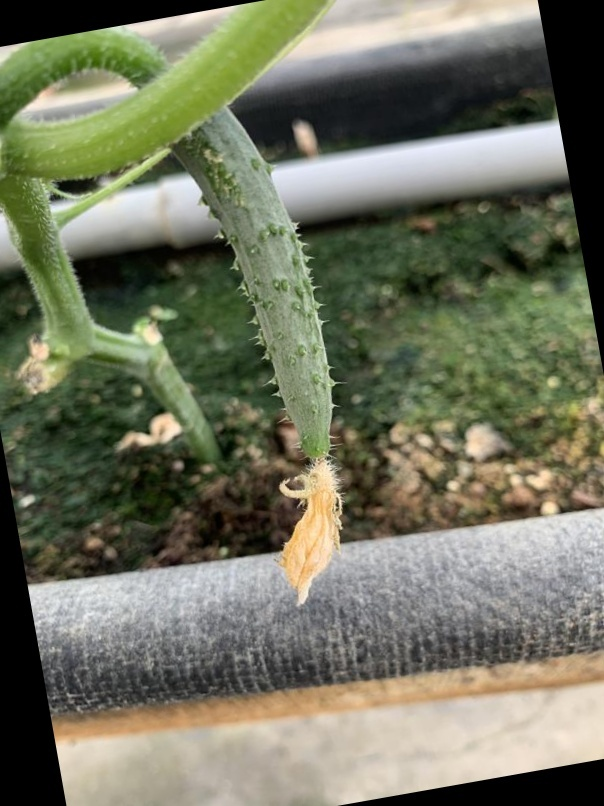bear: (191, 128, 346, 509)
